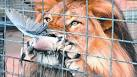lion: (24, 2, 131, 77)
